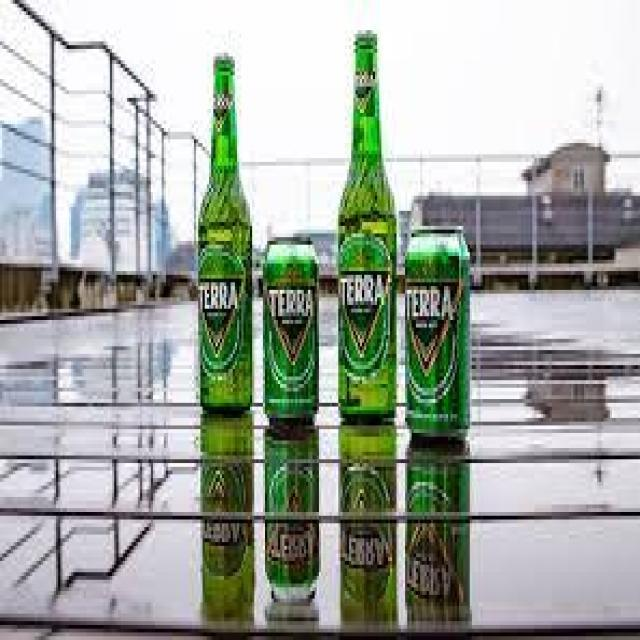beer-bottle: (186, 42, 260, 426), (336, 26, 400, 421)
beer-can: (406, 223, 476, 440), (263, 232, 322, 422)
